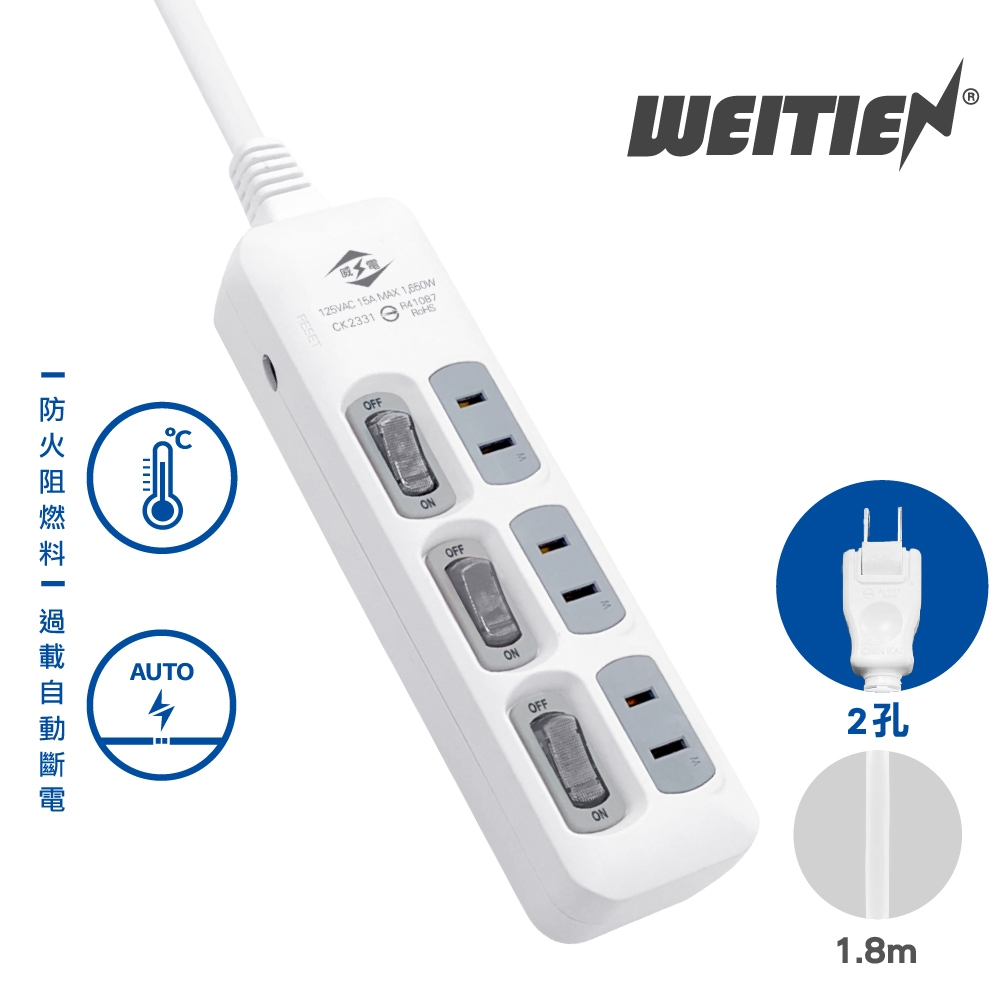socket: (209, 133, 759, 945)
